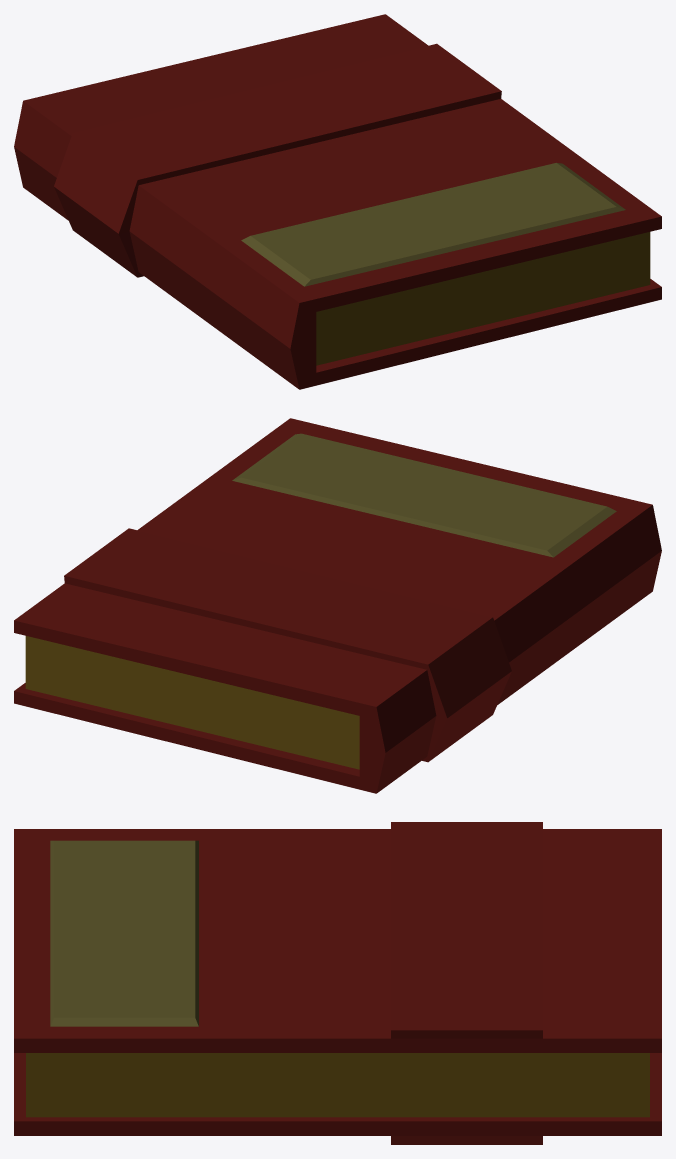
File: Book 14.fbx
3 renders of one model, top to bottom at view 1: azimuth 30°, elevation 25°; view 2: azimuth 150°, elevation 25°; view 3: azimuth 270°, elevation 25°, orthographic. The views are drawn at different scales.
Visible parts, largest first — view 1: Node 0; view 2: Node 0; view 3: Node 0.
Part boxes in pixels (x1,y1,x2,y2): Node 0: [14, 14, 661, 389]; Node 0: [14, 418, 661, 793]; Node 0: [14, 822, 661, 1144].
Size of the model in its own units: 0.35 by 0.0684 by 0.2801.
